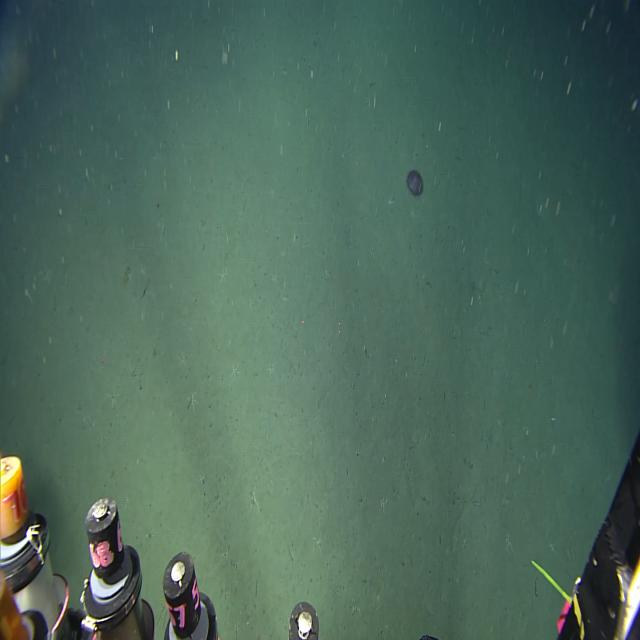Brittle Star: (247, 482, 263, 514), (214, 260, 232, 288), (184, 385, 201, 414), (174, 347, 190, 372)
Not Brittle Star: (404, 166, 425, 199)
